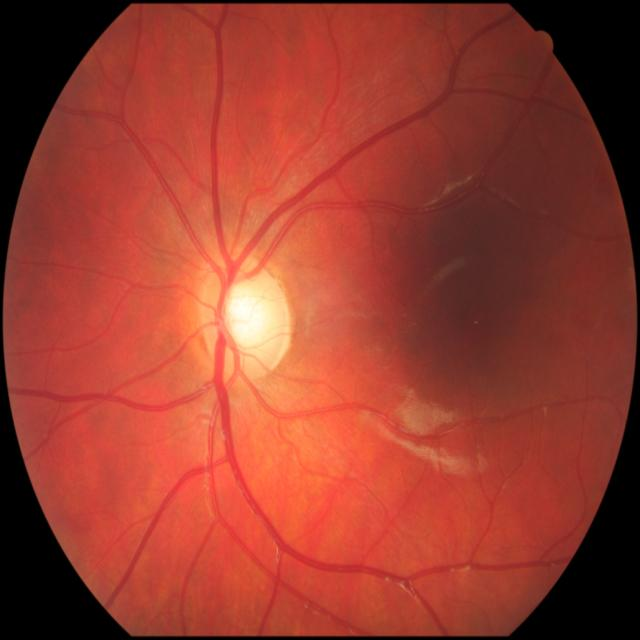OC: (222, 280, 268, 347)
OD: (192, 255, 290, 383)
